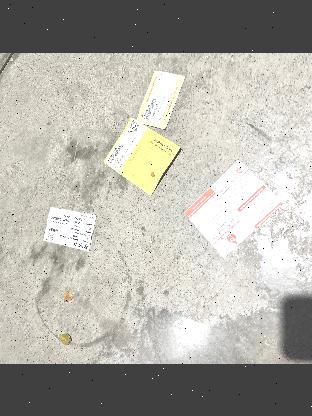Others: (178, 156, 280, 264), (101, 117, 182, 199), (132, 64, 190, 126), (37, 206, 95, 254)
